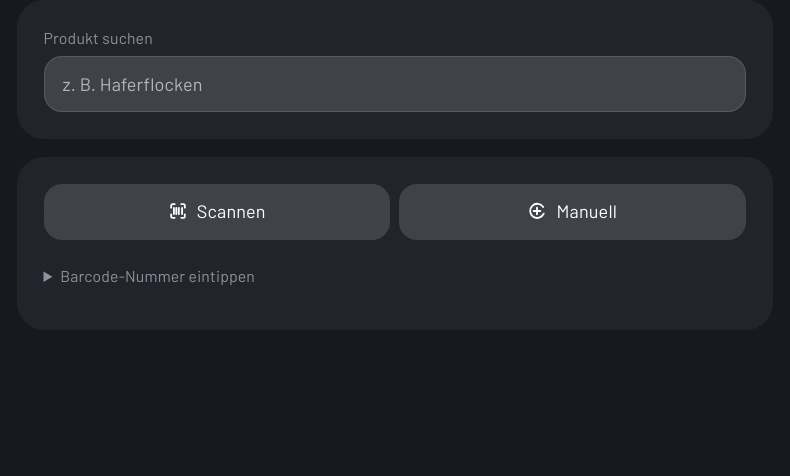
Scenario: AddEntryFlow › shows an error and keeps the confirm form when adding fails
Click the button "Scannen".
click(217, 212)  # box [44, 184, 390, 240]
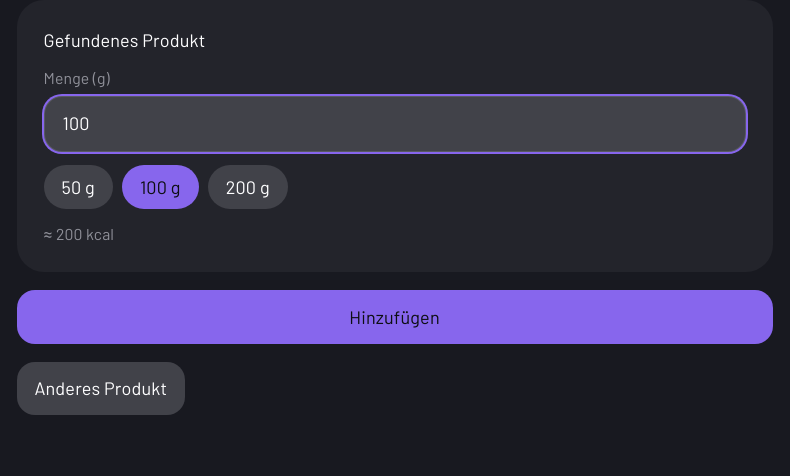
expect the text "Gefundenes Produkt" is shown: met, box [44, 29, 206, 51]
Click the button "Hinzufügen".
click(394, 317)  # box [16, 290, 772, 344]
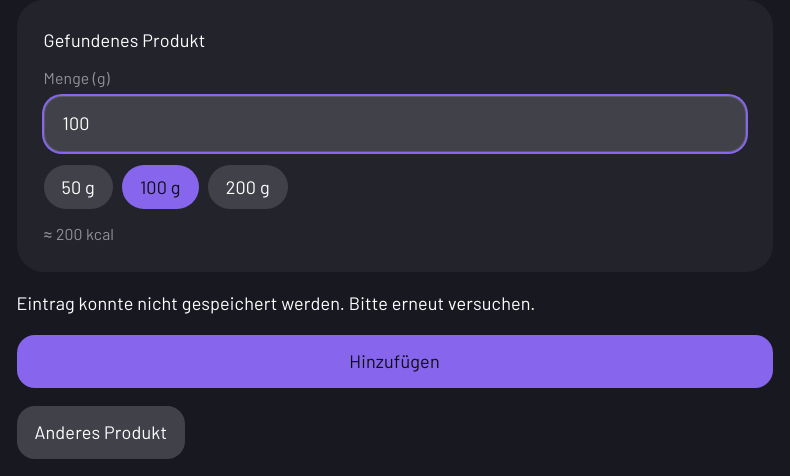
expect the text "Gefundenes Produkt" is shown: met, box [44, 29, 206, 51]
expect the message reads "Eintrag konnte nicht gespeichert werden. Bitte erneut versuchen.": met, box [16, 292, 535, 314]
